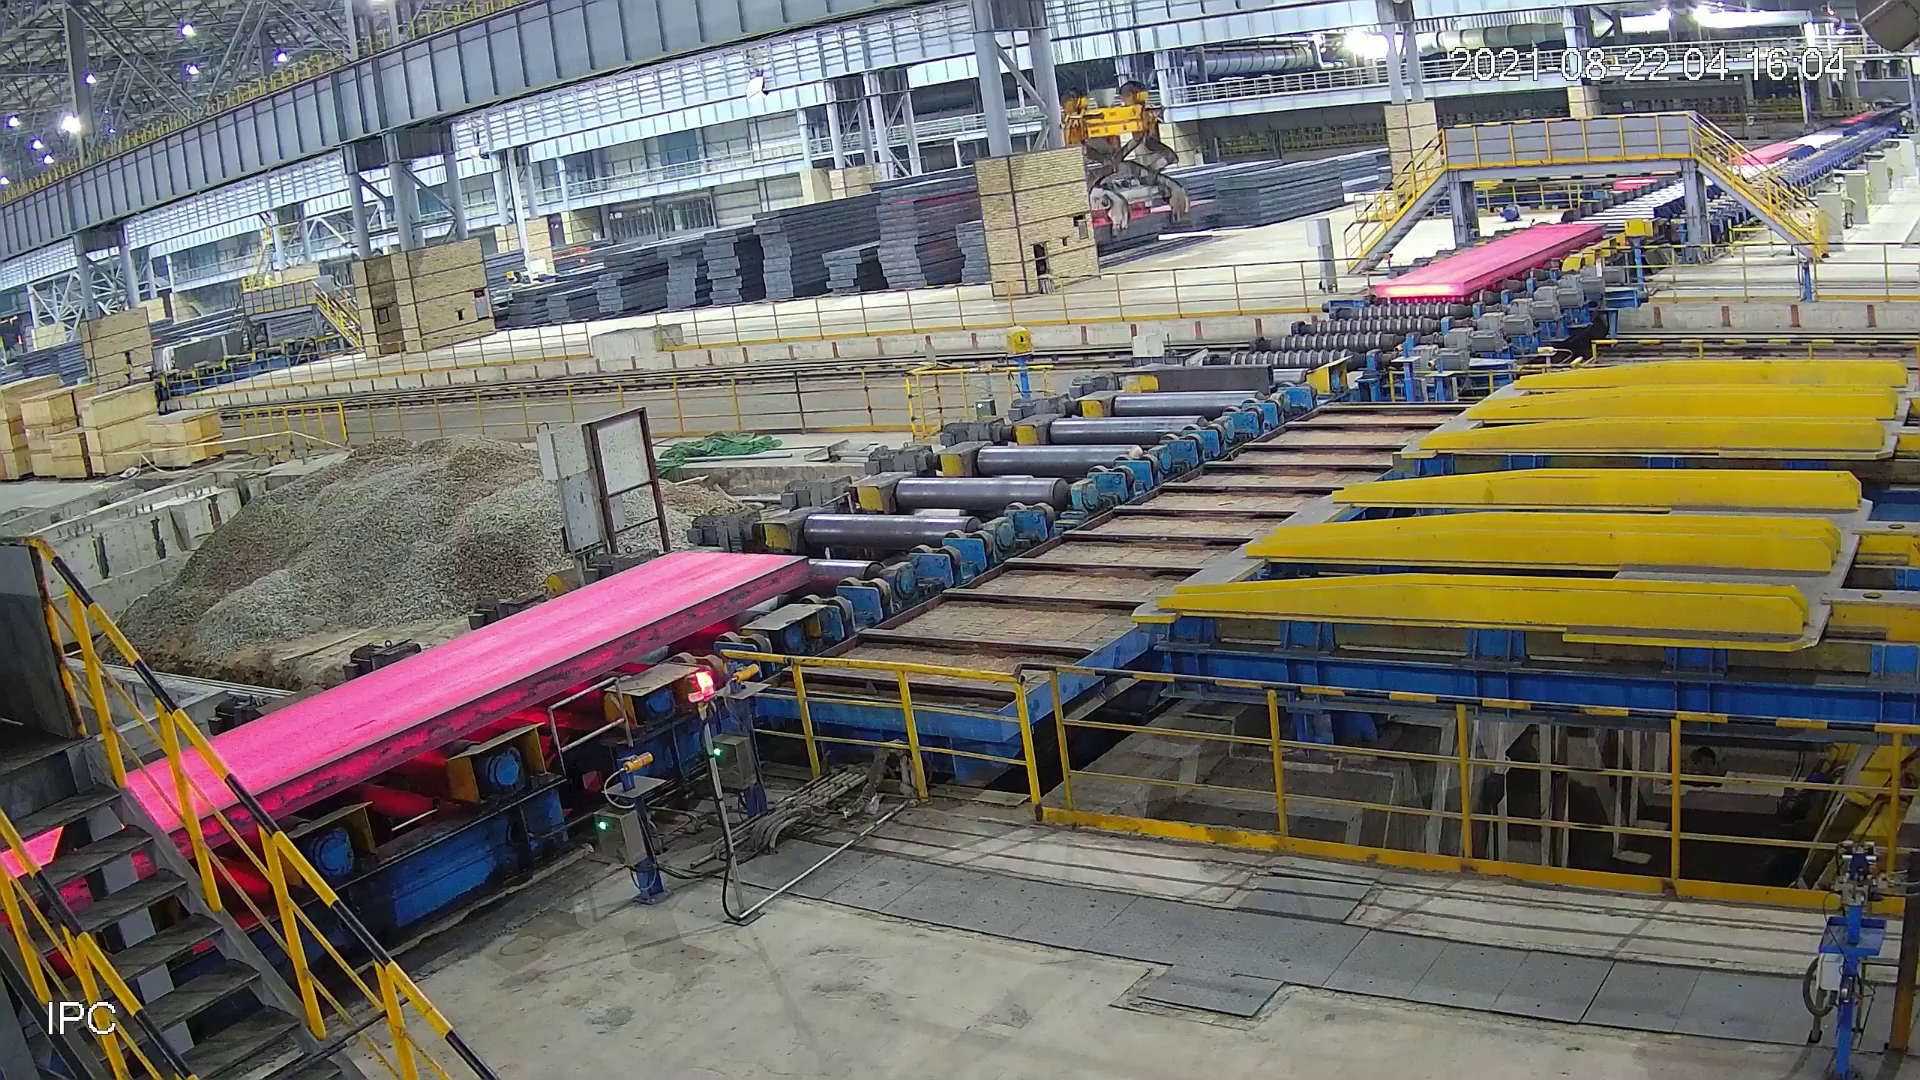slab: (1, 549, 822, 939), (1371, 222, 1607, 298)
